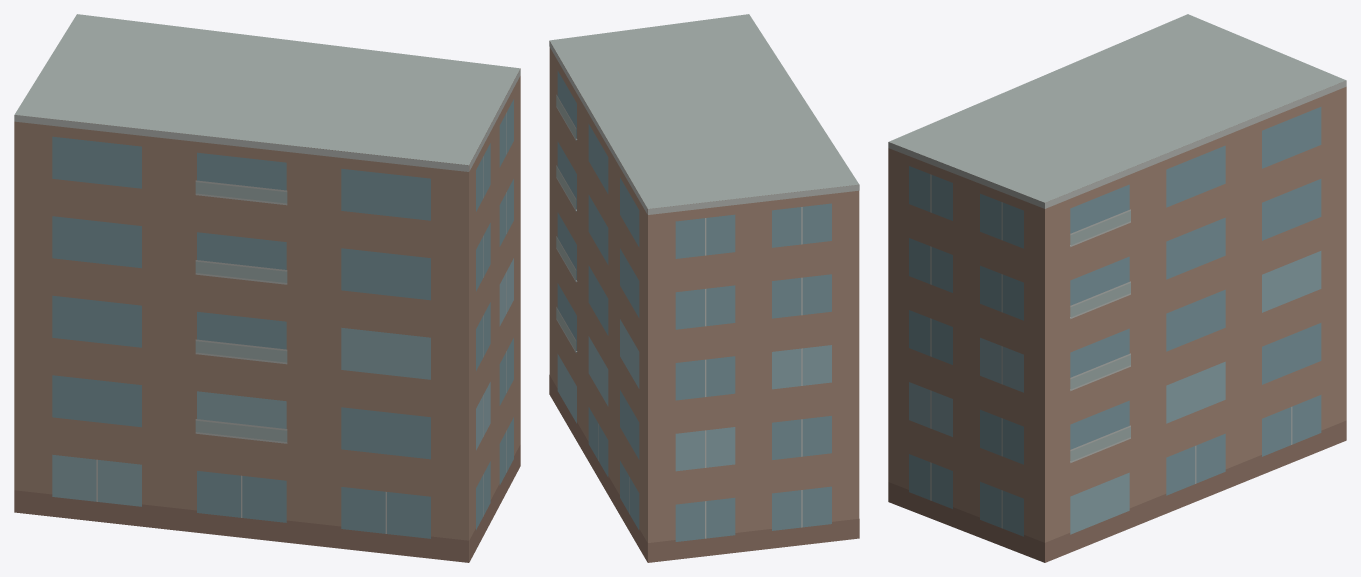
File: survey-upis-32951026.glb
3 renders of one model, left to right at view 1: azimuth 30°, elevation 25°; view 2: azimuth 150°, elevation 25°; view 3: azimuth 270°, elevation 25°, orthographic. The views are drawn at different scales.
Parts seen in each view (by area): view 1: survey-upis-32951026.tmp; view 2: survey-upis-32951026.tmp; view 3: survey-upis-32951026.tmp.
Part boxes in pixels (x1,y1,x2,y2): survey-upis-32951026.tmp: [14, 14, 520, 562]; survey-upis-32951026.tmp: [549, 14, 859, 562]; survey-upis-32951026.tmp: [888, 14, 1346, 562].
Bounding box in the file's own units: 15.98 × 14.2 × 16.38.
